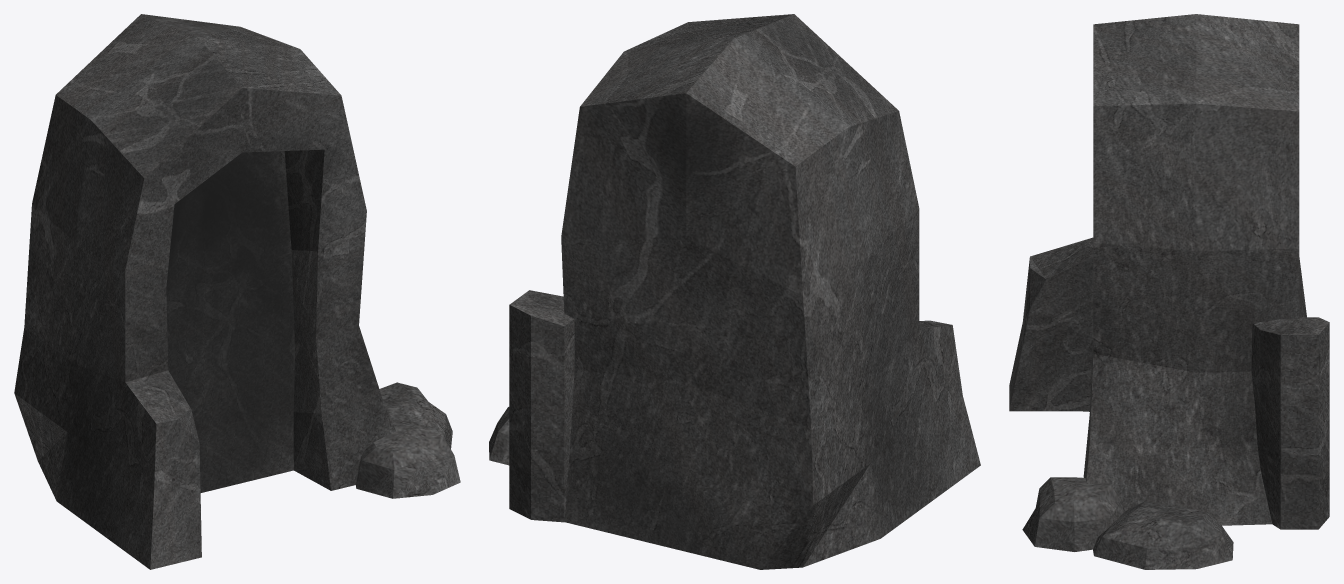
3 views of the same model, side by side, from view 1: azimuth 30°, elevation 25°; view 2: azimuth 150°, elevation 25°; view 3: azimuth 270°, elevation 25° (orthographic). The views are drawn at different scales.
Visible parts, largest first — view 1: 3DObj_Land_4; view 2: 3DObj_Land_4; view 3: 3DObj_Land_4.
Boxes of the visible parts, x1=… form: 3DObj_Land_4: x1=14, y1=14, x2=460, y2=569; 3DObj_Land_4: x1=489, y1=14, x2=980, y2=569; 3DObj_Land_4: x1=1009, y1=14, x2=1329, y2=569.
Size of the model in its own units: 298 by 333 by 219.
Materials: 1 (1 with a texture image).
